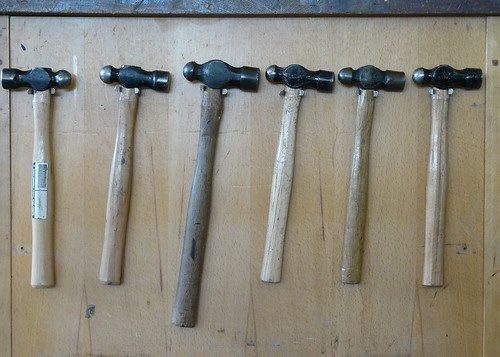hammer: (174, 58, 256, 323), (95, 64, 169, 285), (5, 65, 74, 290), (412, 66, 479, 289), (265, 62, 332, 281), (342, 65, 403, 286)
